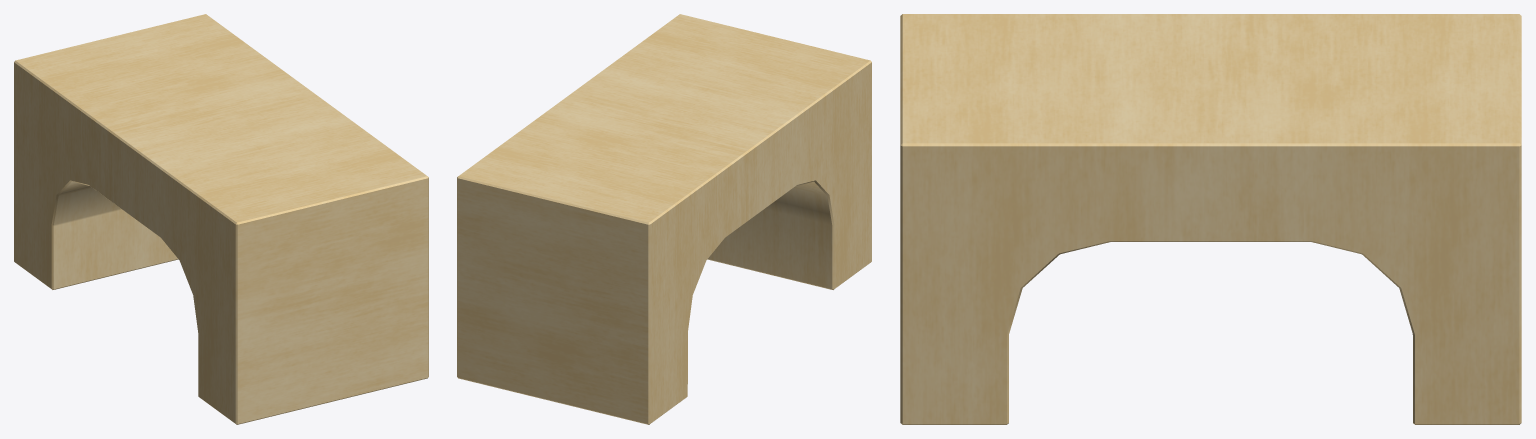
The model's file is TaskBlock2.fbx.
3 renders of one model, left to right at view 1: azimuth 30°, elevation 25°; view 2: azimuth 150°, elevation 25°; view 3: azimuth 270°, elevation 25°, orthographic. The views are drawn at different scales.
Visible parts, largest first — view 1: TaskBlock2; view 2: TaskBlock2; view 3: TaskBlock2.
Part boxes in pixels (x1,y1,x2,y2): TaskBlock2: (14,14,428,424); TaskBlock2: (457,14,871,424); TaskBlock2: (900,14,1521,424).
Size of the model in its own units: 0.6772 by 0.6772 by 1.35.
Materials: 1 (1 with a texture image).
